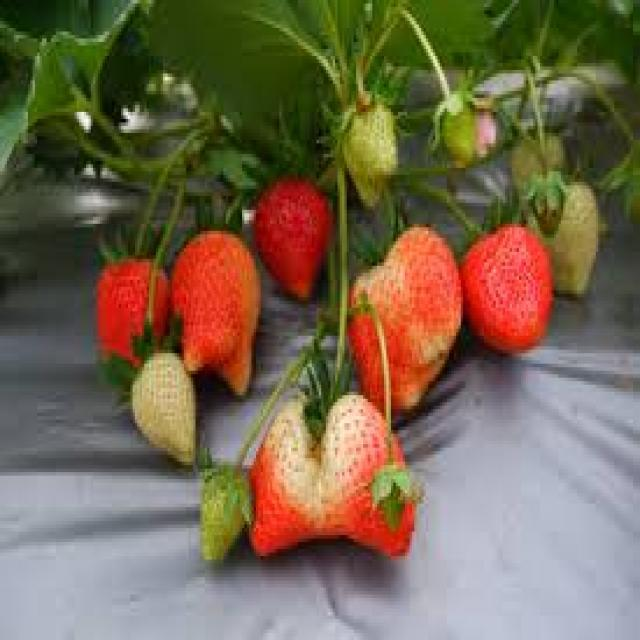Fruta sana: (256, 390, 438, 563), (348, 227, 462, 418), (454, 198, 560, 350), (171, 229, 268, 395), (249, 178, 334, 306), (90, 250, 166, 366)
